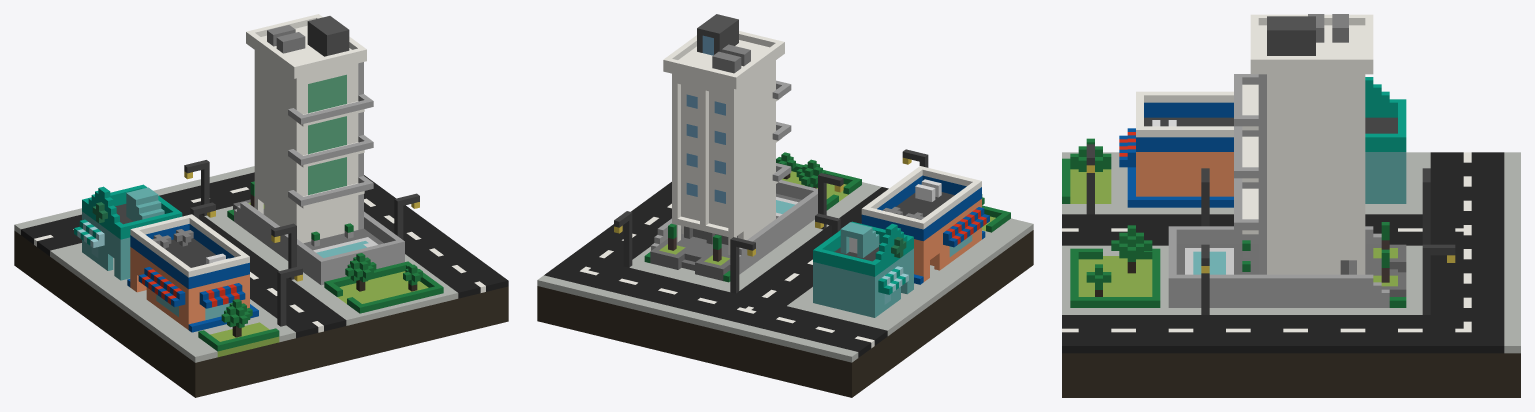
The model's file is city_1.glb.
The picture shows the model from 3 angles, left to right: view 1: azimuth 30°, elevation 25°; view 2: azimuth 150°, elevation 25°; view 3: azimuth 270°, elevation 25°; orthographic projection. The views are drawn at different scales.
Visible parts, largest first — view 1: Untitled; view 2: Untitled; view 3: Untitled.
Boxes of the visible parts, bbox=[...] form: Untitled: bbox=[14, 14, 508, 397]; Untitled: bbox=[537, 14, 1033, 397]; Untitled: bbox=[1062, 14, 1520, 397].
Size of the model in its own units: 5.6 by 4.3 by 5.6.
1 material, 1 textured.
